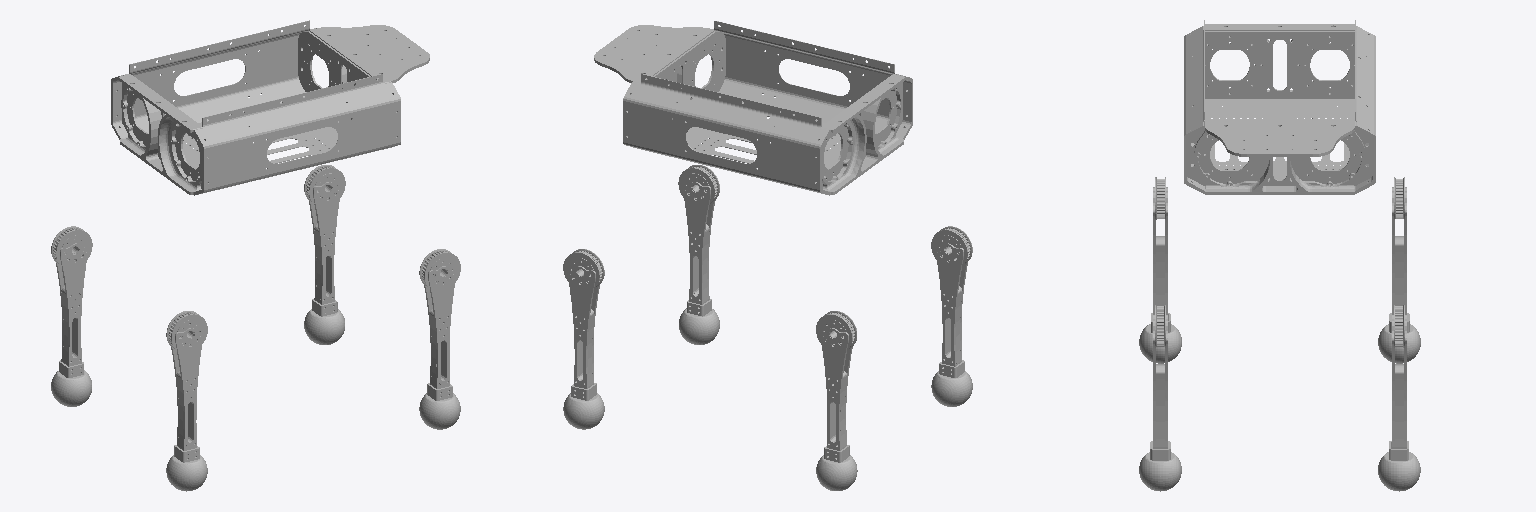
The robot description file, URDF, robot "new_dog":
<?xml version="1.0" encoding="utf-8"?>
<robot name="new_dog">
  <link
      name="base_link">
      <inertial>
        <origin xyz="0.0231 0 -0.0049"  rpy="0 0 0" />
        <mass value="6.0" />
        <inertia ixx="0.0076" ixy="0" ixz="0.0000" iyy="0.0133" iyz="0" izz="0.0185" />
      </inertial>
      <visual>
        <origin xyz="0 0 0" rpy="0 0 0" />
        <geometry>
          <mesh filename="package://new_dog/meshes/base_link.STL" />
        </geometry>
        <material name="a"><color rgba="0.75294 0.75294 0.75294 1" /></material>
      </visual>
      <collision>
        <origin xyz="0 0 0" rpy="0 0 0" />
        <geometry>
          <mesh filename="package://new_dog/meshes/base_link.STL" />
        </geometry>
      </collision>
  </link>
  <!--  ————————————————————————腿1分割线——————————————————————————————  -->
      <!--腿1 连杆1-->
  <link name="leg1_link1">
      <inertial>
        <origin xyz="0 0 0" rpy="0 0 0" />
        <mass value="1.0316" />
        <inertia
          ixx="0.0006"
          ixy="0.0003"
          ixz="0"
          iyy="0.0024"
          iyz="0"
          izz="0.0024" />
      </inertial>
      <visual>
        <origin
          xyz="0 0 0"
          rpy="0 0 0" />
        <geometry>
          <mesh
            filename="package://new_dog/meshes/leg1_link1.STL" />
        </geometry>
        <material name="a"><color rgba="0.75294 0.75294 0.75294 1" /></material>
      </visual>
      <collision>
        <origin
          xyz="0 0 0"
          rpy="0 0 0" />
        <geometry>
          <!-- <box size="0.1 0.1 0.05"/> -->
          <mesh
            filename="package://new_dog/meshes/leg1_link1.STL" />
        </geometry>
      </collision>
  </link>
      <!--腿1 关节1-->
  <joint
      name="leg1_joint1"
      type="revolute">
      <origin
        xyz="0.15 -0.069866 0.00048158"
        rpy="0 0 0" />
      <parent
        link="base_link" />
      <child
        link="leg1_link1" />
      <axis
        xyz="1 0 0" />
      <limit
        lower="-3.1415"
        upper="3.1415"
        effort="19.94"
        velocity="24.18" />
  </joint>
      <!--腿1 连杆2-->
  <link
      name="leg1_link2">
      <inertial>
        <origin
          xyz="0 0 0"
          rpy="0 0 0" />
        <mass
          value="0.75" />
        <inertia
          ixx="0.0031"
          ixy="0"
          ixz="0"
          iyy="0.0028"
          iyz="0.0007"
          izz="0.0007" />
      </inertial>
      <visual>
        <origin
          xyz="0 0 0"
          rpy="0 0 0" />
        <geometry>
          <mesh
            filename="package://new_dog/meshes/leg1_link2.STL" />
        </geometry>
        <material name="a"><color rgba="0.75294 0.75294 0.75294 1" /></material>
      </visual>
      <collision>
        <origin
          xyz="0 0 0"
          rpy="0 0 0" />
        <geometry>
          <mesh
            filename="package://new_dog/meshes/leg1_link2.STL" />
        </geometry>
      </collision>
  </link>
      <!--腿1 关节2-->
  <joint
      name="leg1_joint2"
      type="revolute">
      <origin
        xyz="0.061332 -0.0002687 -0.00048158"
        rpy="0 0 0" />
      <parent
        link="leg1_link1" />
      <child
        link="leg1_link2" />
      <axis
        xyz="0 1 0" />
      <limit
        lower="-3.1415"
        upper="3.1415"
        effort="19.94"
        velocity="24.18" />
  </joint>
      <!--腿1 连杆3-->
  <link
      name="leg1_link3">
      <inertial>
        <origin
          xyz="0 0 0"
          rpy="0 0 0" />
        <mass
          value="0.1931" />
        <inertia ixx="0.00005" ixy="0.0" ixz="0.0" iyy="0.00002" iyz="0.0" izz="0.00005" />
      </inertial>
      <visual>
        <origin
          xyz="0 0 0"
          rpy="0 0 0" />
        <geometry>
          <mesh
            filename="package://new_dog/meshes/leg1_link3.STL" />
        </geometry>
        <material name="a"><color rgba="0.75294 0.75294 0.75294 1" /></material>
      </visual>
      <collision>
        <origin
          xyz="0 0 0"
          rpy="0 0 0" />
        <geometry>
          <mesh
            filename="package://new_dog/meshes/leg1_link3.STL" />
        </geometry>
      </collision>
  </link>
      <!--腿1 关节3-->
  <joint
      name="leg1_joint3"
      type="revolute">
      <origin
        xyz="0 -0.096681 -0.23497"
        rpy="0 0 0" />
      <parent
        link="leg1_link2" />
      <child
        link="leg1_link3" />
      <axis
        xyz="0 1 0" />
      <limit
        lower="-3.1415"
        upper="3.1415"
        effort="19.94"
        velocity="24.18" />
  </joint>
      <!--腿1 连杆4-->
  <link
      name="leg1_link4">
      <inertial>
        <origin xyz="0 0 0" rpy="0 0 0" />
        <mass value="0.1117" />
        <inertia
          ixx="0.00001"
          ixy="0"
          ixz="0"
          iyy="0.00001"
          iyz="0"
          izz="0.00001" />
      </inertial>
      <visual>
        <origin
          xyz="0 0 0"
          rpy="0 0 0" />
        <geometry>
          <mesh
            filename="package://new_dog/meshes/leg1_link4.STL" />
        </geometry>
        <material name="a"><color rgba="0.75294 0.75294 0.75294 1" /></material>
      </visual>
      <collision>
        <origin
          xyz="0 0 0"
          rpy="0 0 0" />
        <geometry>
          <mesh
            filename="package://new_dog/meshes/leg1_link4.STL" />
        </geometry>
      </collision>
  </link>
      <!--腿1 关节4-->
  <joint
      name="leg1_joint4"
      type="fixed">
      <origin
        xyz="-0.00019719 0 -0.22142"
        rpy="0 0 0" />
      <parent
        link="leg1_link3" />
      <child
        link="leg1_link4" />
      <axis
        xyz="0 0 1" />
  </joint>
  <!--  ————————————————————————腿2分割线——————————————————————————————  -->
      <!--腿2 连杆1-->
  <link
      name="leg2_link1">
      <inertial>
        <origin
          xyz="0 0 0"
          rpy="0 0 0" />
        <mass
          value="1.0316" />
        <inertia
          ixx="0.0006"
          ixy="-0.0003"
          ixz="0"
          iyy="0.0024"
          iyz="0"
          izz="0.0024" />
      </inertial>
      <visual>
        <origin
          xyz="0 0 0"
          rpy="0 0 0" />
        <geometry>
          <mesh
            filename="package://new_dog/meshes/leg2_link1.STL" />
        </geometry>
        <material name="a"><color rgba="0.75294 0.75294 0.75294 1" /></material>
      </visual>
      <collision>
        <origin
          xyz="0 0 0"
          rpy="0 0 0" />
        <geometry>
          <mesh
            filename="package://new_dog/meshes/leg2_link1.STL" />
        </geometry>
      </collision>
  </link>
      <!--腿2 关节1-->
  <joint
      name="leg2_joint1"
      type="revolute">
      <origin
        xyz="0.15 0.070134 0.00048158"
        rpy="0 0 0" />
      <parent
        link="base_link" />
      <child
        link="leg2_link1" />
      <axis
        xyz="1 0 0" />
      <limit
        lower="-3.1415"
        upper="3.1415"
        effort="19.94"
        velocity="24.18" />
  </joint>
      <!--腿2 连杆2-->
  <link
      name="leg2_link2">
      <inertial>
        <origin
          xyz="0 0 0"
          rpy="0 0 0" />
        <mass
          value="0.75" />
        <inertia
          ixx="0.003"
          ixy="0"
          ixz="0"
          iyy="0.0027"
          iyz="-0.0007"
          izz="0.0008" />
      </inertial>
      <visual>
        <origin
          xyz="0 0 0"
          rpy="0 0 0" />
        <geometry>
          <mesh
            filename="package://new_dog/meshes/leg2_link2.STL" />
        </geometry>
        <material name="a"><color rgba="0.75294 0.75294 0.75294 1" /></material>
      </visual>
      <collision>
        <origin
          xyz="0 0 0"
          rpy="0 0 0" />
        <geometry>
          <mesh
            filename="package://new_dog/meshes/leg2_link2.STL" />
        </geometry>
      </collision>
  </link>
      <!--腿2 关节2-->
  <joint
      name="leg2_joint2"
      type="revolute">
      <origin
        xyz="0.061332 0 0"
        rpy="0 0 0" />
      <parent
        link="leg2_link1" />
      <child
        link="leg2_link2" />
      <axis
        xyz="0 1 0" />
      <limit
        lower="-3.1415"
        upper="3.1415"
        effort="19.94"
        velocity="24.18" />
  </joint>
      <!--腿2 连杆3-->
  <link
      name="leg2_link3">
      <inertial>
        <origin
          xyz="0 0 0"
          rpy="0 0 0" />
        <mass
          value="0.1931" />
        <inertia ixx="0.00005" ixy="0.0" ixz="0.0" iyy="0.00002" iyz="0.0" izz="0.00005" />
      </inertial>
      <visual>
        <origin
          xyz="0 0 0"
          rpy="0 0 0" />
        <geometry>
          <mesh
            filename="package://new_dog/meshes/leg2_link3.STL" />
        </geometry>
        <material name="a"><color rgba="0.75294 0.75294 0.75294 1" /></material>
      </visual>
      <collision>
        <origin
          xyz="0 0 0"
          rpy="0 0 0" />
        <geometry>
          <mesh
            filename="package://new_dog/meshes/leg2_link3.STL" />
        </geometry>
      </collision>
  </link>
      <!--腿2 关节3-->
  <joint
      name="leg2_joint3"
      type="revolute">
      <origin
        xyz="0 0.096681 -0.23546"
        rpy="0 0 0" />
      <parent
        link="leg2_link2" />
      <child
        link="leg2_link3" />
      <axis
        xyz="0 1 0" />
      <limit
        lower="-3.1415"
        upper="3.1415"
        effort="19.94"
        velocity="24.18" />
  </joint>
      <!--腿2 连杆4-->
  <link
      name="leg2_link4">
      <inertial>
        <origin
          xyz="0 0 0"
          rpy="0 0 0" />
        <mass
          value="0.1117" />
        <inertia
          ixx="0.00001"
          ixy="0"
          ixz="0"
          iyy="0.00001"
          iyz="0"
          izz="0.00001" />
      </inertial>
      <visual>
        <origin
          xyz="0 0 0"
          rpy="0 0 0" />
        <geometry>
          <mesh
            filename="package://new_dog/meshes/leg2_link4.STL" />
        </geometry>
        <material name="a"><color rgba="0.75294 0.75294 0.75294 1" /></material>
      </visual>
      <collision>
        <origin
          xyz="0 0 0"
          rpy="0 0 0" />
        <geometry>
          <mesh
            filename="package://new_dog/meshes/leg2_link4.STL" />
        </geometry>
      </collision>
  </link>
      <!--腿2 关节4-->
  <joint
      name="leg2_joint4"
      type="fixed">
      <origin
        xyz="-0.00019719 0 -0.22142"
        rpy="0 0 0" />
      <parent
        link="leg2_link3" />
      <child
        link="leg2_link4" />
      <axis
        xyz="0 0 1" />
  </joint>
  <!--  ————————————————————————腿3分割线——————————————————————————————  -->
      <!--腿3 连杆1-->
  <link
      name="leg3_link1">
      <inertial>
        <origin
          xyz="0 0 0"
          rpy="0 0 0" />
        <mass
          value="1.0316" />
        <inertia
          ixx="0.0006"
          ixy="-0.0003"
          ixz="0"
          iyy="0.0024"
          iyz="0"
          izz="0.0024" />
      </inertial>
      <visual>
        <origin
          xyz="0 0 0"
          rpy="0 0 0" />
        <geometry>
          <mesh
            filename="package://new_dog/meshes/leg3_link1.STL" />
        </geometry>
        <material name="a"><color rgba="0.75294 0.75294 0.75294 1" /></material>
      </visual>
      <collision>
        <origin
          xyz="0 0 0"
          rpy="0 0 0" />
        <geometry>
          <mesh
            filename="package://new_dog/meshes/leg3_link1.STL" />
        </geometry>
      </collision>
  </link>
      <!--腿3 关节1-->
  <joint
      name="leg3_joint1"
      type="revolute">
      <origin
        xyz="-0.15 -0.06981 0.00034723"
        rpy="0 0 0" />
      <parent
        link="base_link" />
      <child
        link="leg3_link1" />
      <axis
        xyz="1 0 0" />
      <limit
        lower="-3.1415"
        upper="3.1415"
        effort="19.94"
        velocity="24.18" />
  </joint>
      <!--腿3 连杆2-->
  <link
      name="leg3_link2">
      <inertial>
        <origin
          xyz="0 0 0"
          rpy="0 0 0" />
        <mass
          value="0.75" />
        <inertia
          ixx="0.0031"
          ixy="0"
          ixz="0"
          iyy="0.0028"
          iyz="0.0007"
          izz="0.0007" />
      </inertial>
      <visual>
        <origin
          xyz="0 0 0"
          rpy="0 0 0" />
        <geometry>
          <mesh
            filename="package://new_dog/meshes/leg3_link2.STL" />
        </geometry>
        <material name="a"><color rgba="0.75294 0.75294 0.75294 1" /></material>
      </visual>
      <collision>
        <origin
          xyz="0 0 0"
          rpy="0 0 0" />
        <geometry>
          <mesh
            filename="package://new_dog/meshes/leg3_link2.STL" />
        </geometry>
      </collision>
  </link>
      <!--腿3 关节2-->
  <joint
      name="leg3_joint2"
      type="revolute">
      <origin
        xyz="-0.061332 -0.00032435 -0.00034723"
        rpy="0 0 0" />
      <parent
        link="leg3_link1" />
      <child
        link="leg3_link2" />
      <axis
        xyz="0 1 0" />
      <limit
        lower="-3.1415"
        upper="3.1415"
        effort="19.94"
        velocity="24.18" />
  </joint>
      <!--腿3 连杆3-->
  <link
      name="leg3_link3">
      <inertial>
        <origin
          xyz="0 0 0"
          rpy="0 0 0" />
        <mass
          value="0.1931" />
        <inertia ixx="0.00005" ixy="0.0" ixz="0.0" iyy="0.00002" iyz="0.0" izz="0.00005" />
      </inertial>
      <visual>
        <origin
          xyz="0 0 0"
          rpy="0 0 0" />
        <geometry>
          <mesh
            filename="package://new_dog/meshes/leg3_link3.STL" />
        </geometry>
        <material name="a"><color rgba="0.75294 0.75294 0.75294 1" /></material>
      </visual>
      <collision>
        <origin
          xyz="0 0 0"
          rpy="0 0 0" />
        <geometry>
          <mesh
            filename="package://new_dog/meshes/leg3_link3.STL" />
        </geometry>
      </collision>
  </link>
      <!--腿3 关节3-->
  <joint
      name="leg3_joint3"
      type="revolute">
      <origin
        xyz="0 -0.096681 -0.23497"
        rpy="0 0 0" />
      <parent
        link="leg3_link2" />
      <child
        link="leg3_link3" />
      <axis
        xyz="0 1 0" />
      <limit
        lower="-3.1415"
        upper="3.1415"
        effort="19.94"
        velocity="24.18" />
  </joint>
      <!--腿3 连杆4-->
  <link
      name="leg3_link4">
      <inertial>
        <origin
          xyz="0 0 0"
          rpy="0 0 0" />
        <mass
          value="0.1117" />
        <inertia
          ixx="0.00001"
          ixy="0"
          ixz="0"
          iyy="0.00001"
          iyz="0"
          izz="0.00001" />
      </inertial>
      <visual>
        <origin
          xyz="0 0 0"
          rpy="0 0 0" />
        <geometry>
          <mesh
            filename="package://new_dog/meshes/leg3_link4.STL" />
        </geometry>
        <material name="a"><color rgba="0.75294 0.75294 0.75294 1" /></material>
      </visual>
      <collision>
        <origin
          xyz="0 0 0"
          rpy="0 0 0" />
        <geometry>
          <mesh
            filename="package://new_dog/meshes/leg3_link4.STL" />
        </geometry>
      </collision>
  </link>
      <!--腿3 关节4-->
  <joint
      name="leg3_joint4"
      type="fixed">
      <origin
        xyz="0.00019719 0 -0.22142"
        rpy="0 0 0" />
      <parent
        link="leg3_link3" />
      <child
        link="leg3_link4" />
      <axis
        xyz="0 0 1" />
  </joint>

  <!--  ————————————————————————腿4分割线——————————————————————————————  -->
      <!--腿4 连杆1-->
  <link
      name="leg4_link1">
      <inertial>
        <origin
          xyz="0 0 0"
          rpy="0 0 0" />
        <mass
          value="1.0316" />
        <inertia
          ixx="0.0006"
          ixy="0.0003"
          ixz="0"
          iyy="0.0024"
          iyz="0"
          izz="0.0024" />
      </inertial>
      <visual>
        <origin
          xyz="0 0 0"
          rpy="0 0 0" />
        <geometry>
          <mesh
            filename="package://new_dog/meshes/leg4_link1.STL" />
        </geometry>
        <material name="a"><color rgba="0.75294 0.75294 0.75294 1" /></material>
      </visual>
      <collision>
        <origin
          xyz="0 0 0"
          rpy="0 0 0" />
        <geometry>
          <mesh
            filename="package://new_dog/meshes/leg4_link1.STL" />
        </geometry>
      </collision>
  </link>
      <!--腿4 关节1-->
  <joint
      name="leg4_joint1"
      type="revolute">
      <origin
        xyz="-0.15 0.07019 0.00034723"
        rpy="0 0 0" />
      <parent
        link="base_link" />
      <child
        link="leg4_link1" />
      <axis
        xyz="1 0 0" />
      <limit
        lower="-3.1415"
        upper="3.1415"
        effort="19.94"
        velocity="24.18" />
  </joint>
      <!--腿4 连杆2-->
  <link
      name="leg4_link2">
      <inertial>
        <origin
          xyz="0 0 0"
          rpy="0 0 0" />
        <mass
          value="0.75" />
        <inertia
          ixx="0.0031"
          ixy="0"
          ixz="0"
          iyy="0.0028"
          iyz="-0.0007"
          izz="0.0007" />
      </inertial>
      <visual>
        <origin
          xyz="0 0 0"
          rpy="0 0 0" />
        <geometry>
          <mesh
            filename="package://new_dog/meshes/leg4_link2.STL" />
        </geometry>
        <material name="a"><color rgba="0.75294 0.75294 0.75294 1" /></material>
      </visual>
      <collision>
        <origin
          xyz="0 0 0"
          rpy="0 0 0" />
        <geometry>
          <mesh
            filename="package://new_dog/meshes/leg4_link2.STL" />
        </geometry>
      </collision>
  </link>
      <!--腿4 关节2-->
  <joint
      name="leg4_joint2"
      type="revolute">
      <origin
        xyz="-0.061332 -5.5649E-05 -0.00034723"
        rpy="0 0 0" />
      <parent
        link="leg4_link1" />
      <child
        link="leg4_link2" />
      <axis
        xyz="0 1 0" />
      <limit
        lower="-3.1415"
        upper="3.1415"
        effort="19.94"
        velocity="24.18" />
  </joint>
      <!--腿4 连杆3-->
  <link
      name="leg4_link3">
      <inertial>
        <origin
          xyz="0 0 0"
          rpy="0 0 0" />
        <mass
          value="0.1931" />
        <inertia ixx="0.00005" ixy="0.0" ixz="0.0" iyy="0.00002" iyz="0.0" izz="0.00005" />
      </inertial>
      <visual>
        <origin
          xyz="0 0 0"
          rpy="0 0 0" />
        <geometry>
          <mesh
            filename="package://new_dog/meshes/leg4_link3.STL" />
        </geometry>
        <material name="a"><color rgba="0.75294 0.75294 0.75294 1" /></material>
      </visual>
      <collision>
        <origin
          xyz="0 0 0"
          rpy="0 0 0" />
        <geometry>
          <mesh
            filename="package://new_dog/meshes/leg4_link3.STL" />
        </geometry>
      </collision>
  </link>
      <!--腿4 关节3-->
  <joint
      name="leg4_joint3"
      type="revolute">
      <origin
        xyz="0 0.096681 -0.23497"
        rpy="0 0 0" />
      <parent
        link="leg4_link2" />
      <child
        link="leg4_link3" />
      <axis
        xyz="0 1 0" />
      <limit
        lower="-3.1415"
        upper="3.1415"
        effort="19.94"
        velocity="24.18" />
  </joint>
      <!--腿4 连杆4-->
  <link
      name="leg4_link4">
      <inertial>
        <origin
          xyz="0 0 0"
          rpy="0 0 0" />
        <mass
          value="0.1117" />
        <inertia
          ixx="0.00001"
          ixy="0"
          ixz="0"
          iyy="0.00001"
          iyz="0"
          izz="0.00001" />
      </inertial>
      <visual>
        <origin
          xyz="0 0 0"
          rpy="0 0 0" />
        <geometry>
          <mesh
            filename="package://new_dog/meshes/leg4_link4.STL" />
        </geometry>
        <material name="a"><color rgba="0.75294 0.75294 0.75294 1" /></material>
      </visual>
      <collision>
        <origin
          xyz="0 0 0"
          rpy="0 0 0" />
        <geometry>
          <mesh
            filename="package://new_dog/meshes/leg4_link4.STL" />
        </geometry>
      </collision>
  </link>
      <!--腿4 关节4-->
  <joint
      name="leg4_joint4"
      type="fixed">
      <origin
        xyz="0.00019719 0 -0.22142"
        rpy="0 0 0" />
      <parent
        link="leg4_link3" />
      <child
        link="leg4_link4" />
      <axis
        xyz="0 0 1" />
  </joint>


</robot>

--- What the picture shows (computed from the rendered views, not written in the file) ---
3 views of the same robot in one strip: view 1: azimuth 30°, elevation 25°; view 2: azimuth 150°, elevation 25°; view 3: azimuth 270°, elevation 25° (orthographic).
Model new_dog with 17 links and 16 joints (12 revolute, 4 fixed), rooted at base_link, posed all joints at 0.
Visible links, largest first — view 1: base_link, leg1_link3, leg3_link3, leg4_link3, leg2_link3, leg1_link4, leg3_link4, leg2_link4, leg4_link4; view 2: base_link, leg3_link3, leg2_link3, leg1_link3, leg4_link3, leg2_link4, leg3_link4, leg4_link4, leg1_link4; view 3: base_link, leg2_link3, leg1_link3, leg3_link3, leg4_link3, leg1_link4, leg2_link4, leg4_link4, leg3_link4.
Link boxes in pixels (x1,y1,x2,y2): base_link: (111,20,429,195); leg1_link3: (419,249,460,396); leg3_link3: (166,311,207,456); leg4_link3: (51,226,92,374); leg2_link3: (304,165,345,305); leg1_link4: (419,383,460,429); leg3_link4: (166,445,207,491); leg2_link4: (304,299,344,344); leg4_link4: (51,360,91,406); base_link: (594,21,912,195); leg3_link3: (931,226,972,367); leg2_link3: (563,249,604,394); leg1_link3: (678,165,719,312); leg4_link3: (816,311,856,456); leg2_link4: (563,383,604,429); leg3_link4: (931,360,972,406); leg4_link4: (816,445,857,490); leg1_link4: (679,299,719,344); base_link: (1184,20,1375,194); leg2_link3: (1392,305,1406,448); leg1_link3: (1153,305,1167,448); leg3_link3: (1153,177,1167,314); leg4_link3: (1392,177,1406,314); leg1_link4: (1139,441,1181,491); leg2_link4: (1378,441,1420,491); leg4_link4: (1378,313,1420,363); leg3_link4: (1139,313,1181,363).
Bounding box of the posed robot: 0.5018 × 0.394 × 0.5546 m (x, y, z).
9 mesh visuals loaded from 17 distinct referenced files (9 binary STL); not drawn: 8 (reference not matched to a file when rendering).
